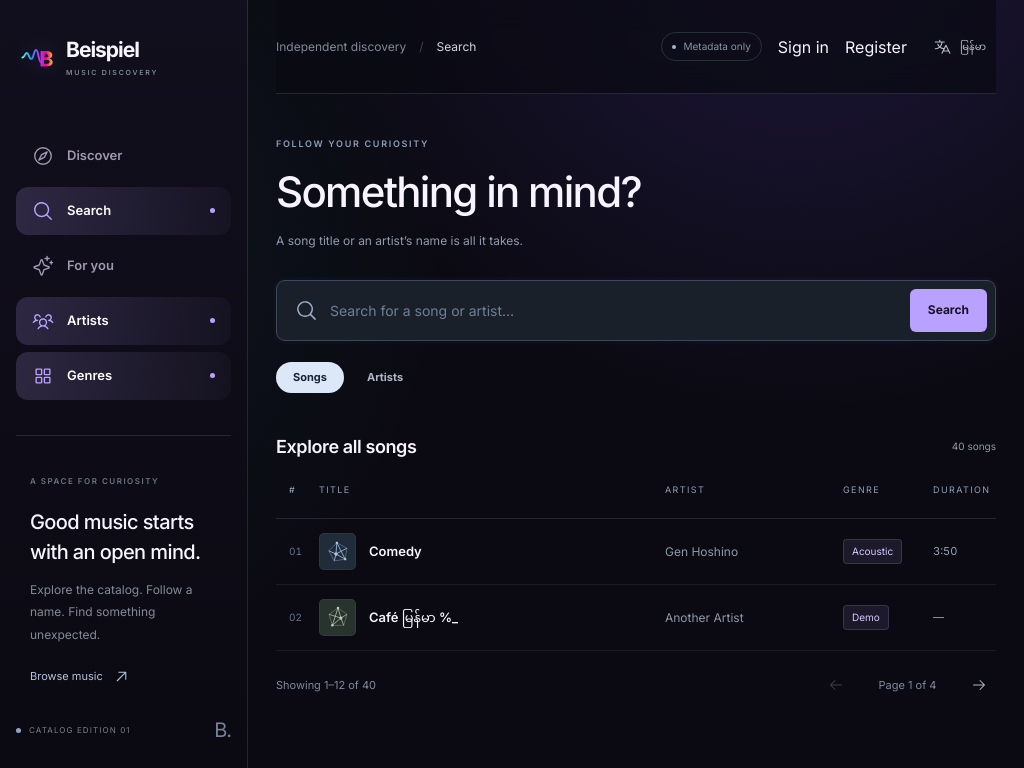
Test case: M04 catalog experience › keeps English/Burmese key coverage aligned and can switch the core UI
Click the button named "Switch language" at point(959, 46), box left=923, top=30, right=996, bottom=62
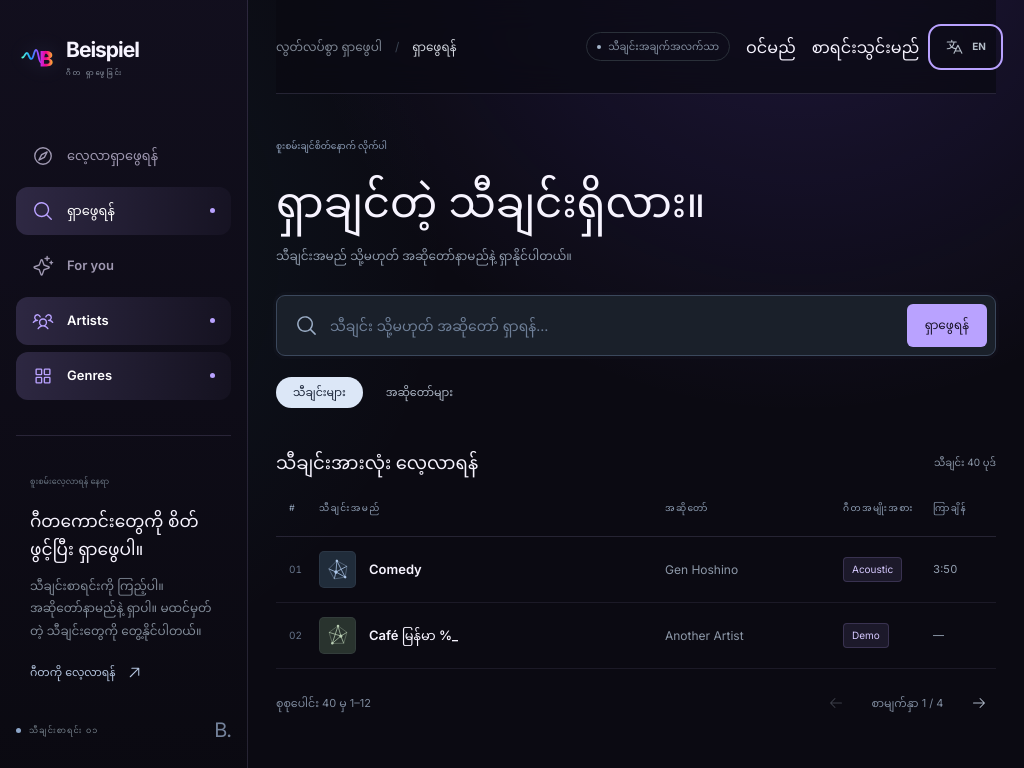
Now the heading "ရှာချင်တဲ့ သီချင်းရှိလား။" is shown, box left=276, top=176, right=706, bottom=227
